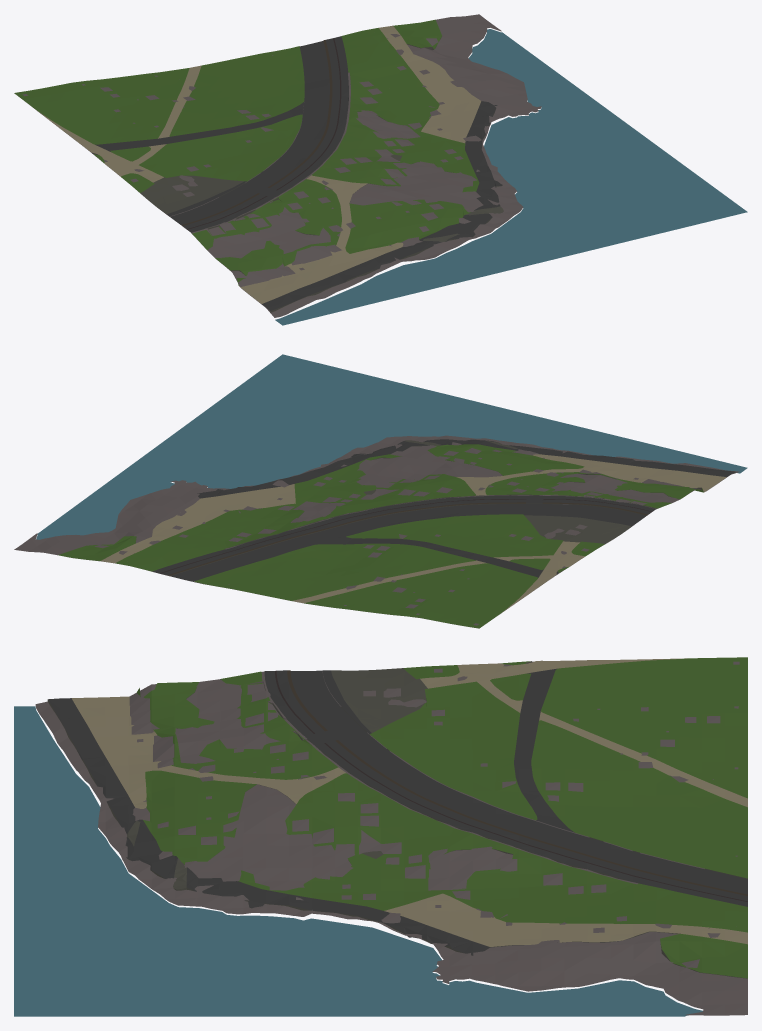
3 renders of one model, top to bottom at view 1: azimuth 30°, elevation 25°; view 2: azimuth 150°, elevation 25°; view 3: azimuth 270°, elevation 25°, orthographic. The views are drawn at different scales.
Visible parts, largest first — view 1: c_p02_p13; view 2: c_p02_p13; view 3: c_p02_p13.
Boxes of the visible parts, x1,y1,x2,y2 form: c_p02_p13: [14, 14, 747, 325]; c_p02_p13: [14, 354, 747, 628]; c_p02_p13: [14, 657, 747, 1016].
Size of the model in its own units: 128 by 9.46 by 128.
